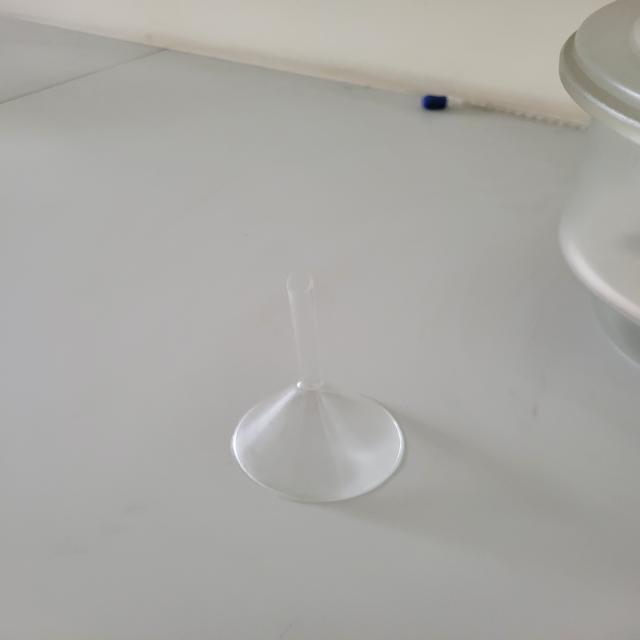Funnel: (180, 241, 450, 559)
